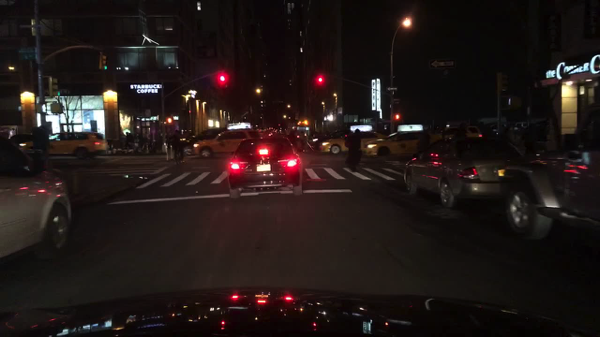bike: (173, 146, 184, 166)
car: (500, 106, 599, 241), (403, 136, 536, 209), (1, 134, 73, 262), (226, 137, 304, 199), (192, 122, 267, 158), (365, 123, 442, 158), (317, 125, 389, 154), (48, 132, 109, 158), (184, 127, 226, 157), (287, 129, 311, 154), (10, 133, 39, 152), (442, 126, 484, 139), (490, 122, 505, 134)
person: (346, 127, 363, 172), (534, 118, 553, 156), (521, 123, 536, 156), (415, 129, 430, 152), (453, 122, 468, 139), (123, 132, 131, 149), (129, 133, 136, 147), (138, 133, 144, 145)
rider: (171, 129, 184, 160)
traffic light: (48, 78, 62, 98), (505, 95, 521, 109), (99, 55, 108, 72), (499, 74, 507, 93), (37, 103, 48, 114), (52, 105, 63, 115), (220, 74, 225, 88), (394, 112, 401, 122), (318, 77, 323, 89), (165, 118, 173, 124)
traffic sign: (19, 47, 37, 60), (429, 59, 454, 68), (386, 86, 397, 91)
